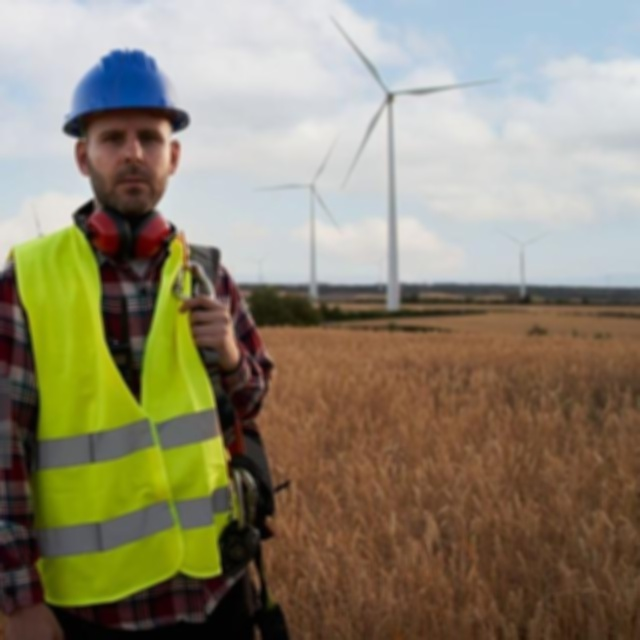Con_Casco: (63, 45, 192, 211)
Con_Chaleco: (14, 221, 233, 596)
